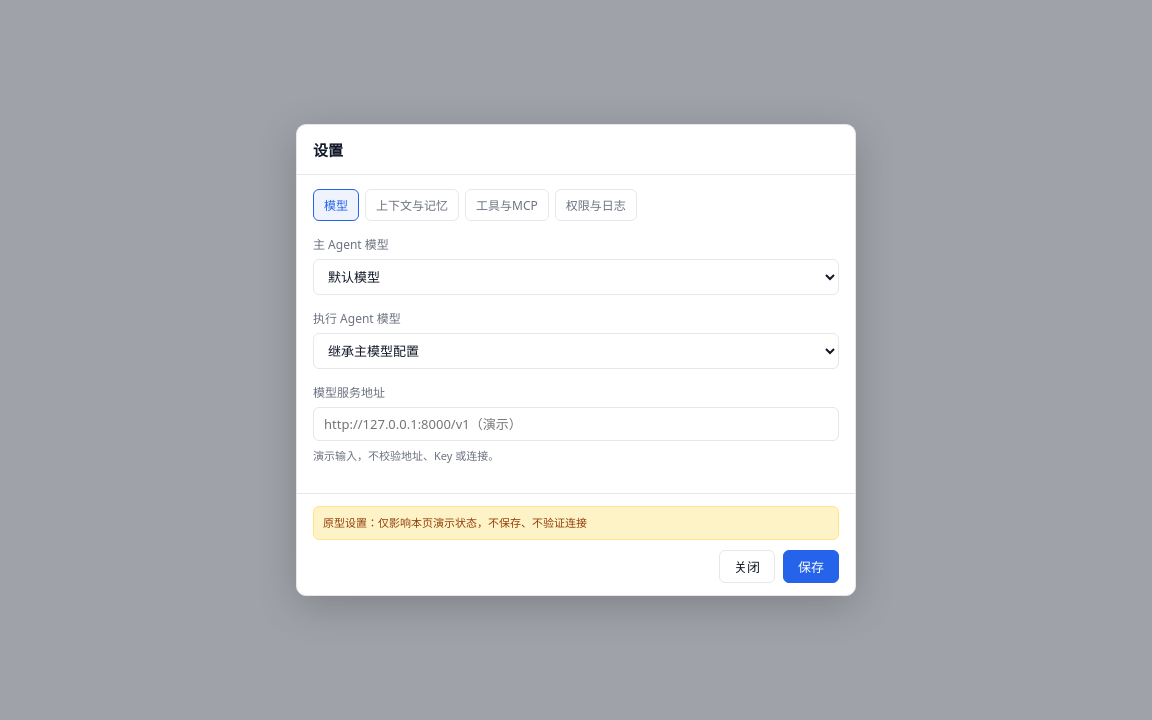
Test: SettingsDialog — 页签与表单 › 「保存」只显示本地提示，不暗示已保存到后端
Click the button "保存" at (811, 566), box [783,550,839,583]
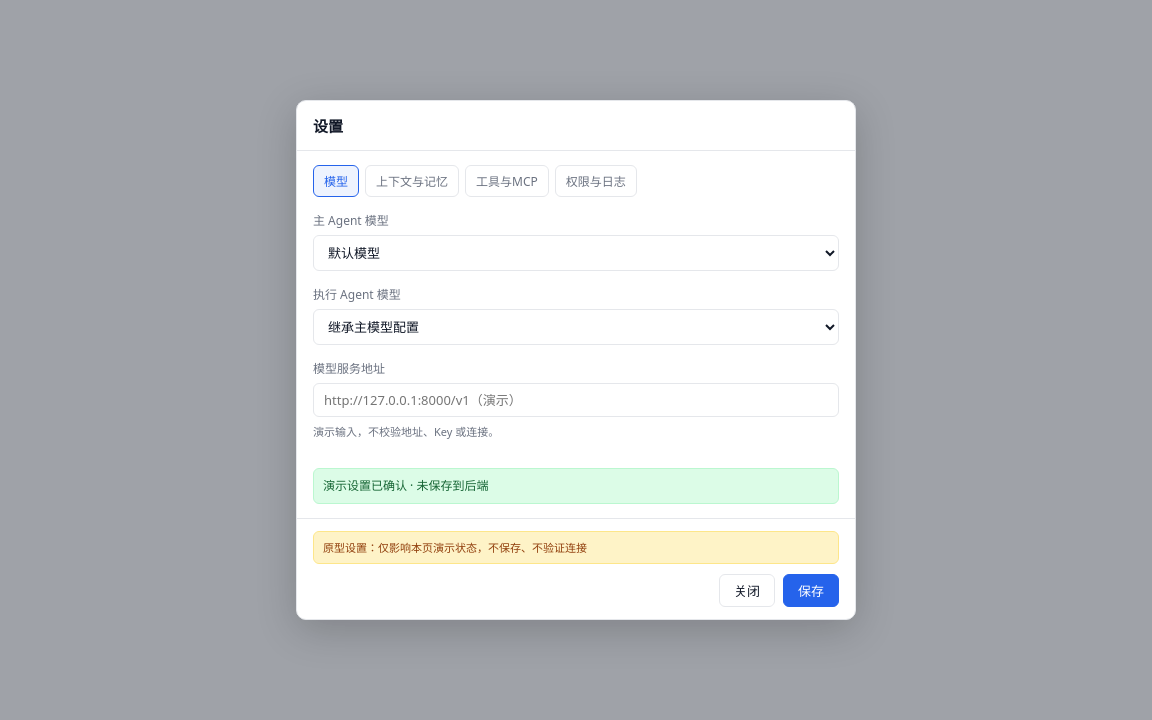
Check: the message reads "演示设置已确认 · 未保存到后端", box [323,477,488,494]
Check: the message shows "未保存到后端", box [323,477,488,494]
